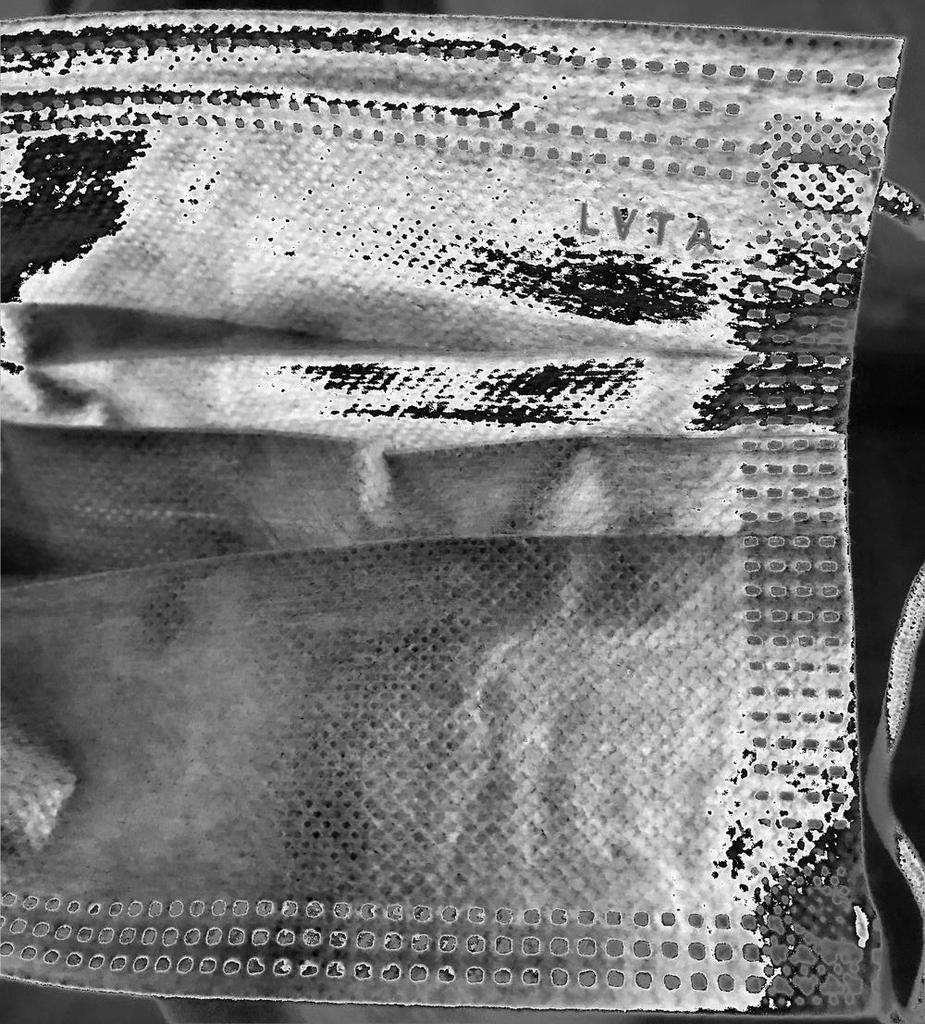High GSM: (4, 5, 903, 1016)
